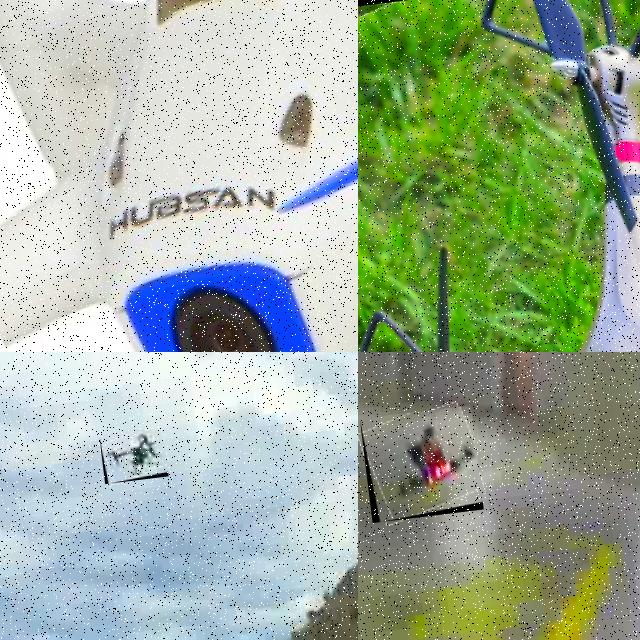drone: (0, 0, 358, 352), (358, 0, 640, 352), (359, 404, 484, 522), (100, 428, 168, 484)
